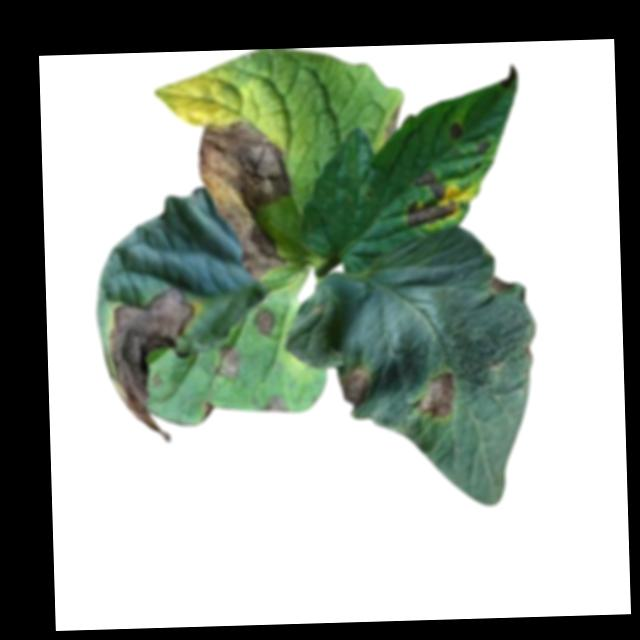Early_blight: (195, 118, 285, 285), (106, 286, 196, 446), (403, 167, 457, 232), (415, 371, 458, 420), (340, 363, 374, 410), (212, 344, 240, 380), (255, 307, 276, 338), (488, 275, 516, 298), (384, 106, 401, 143), (260, 395, 288, 415), (501, 63, 518, 90), (449, 118, 464, 141), (200, 401, 216, 419), (475, 141, 491, 154)
